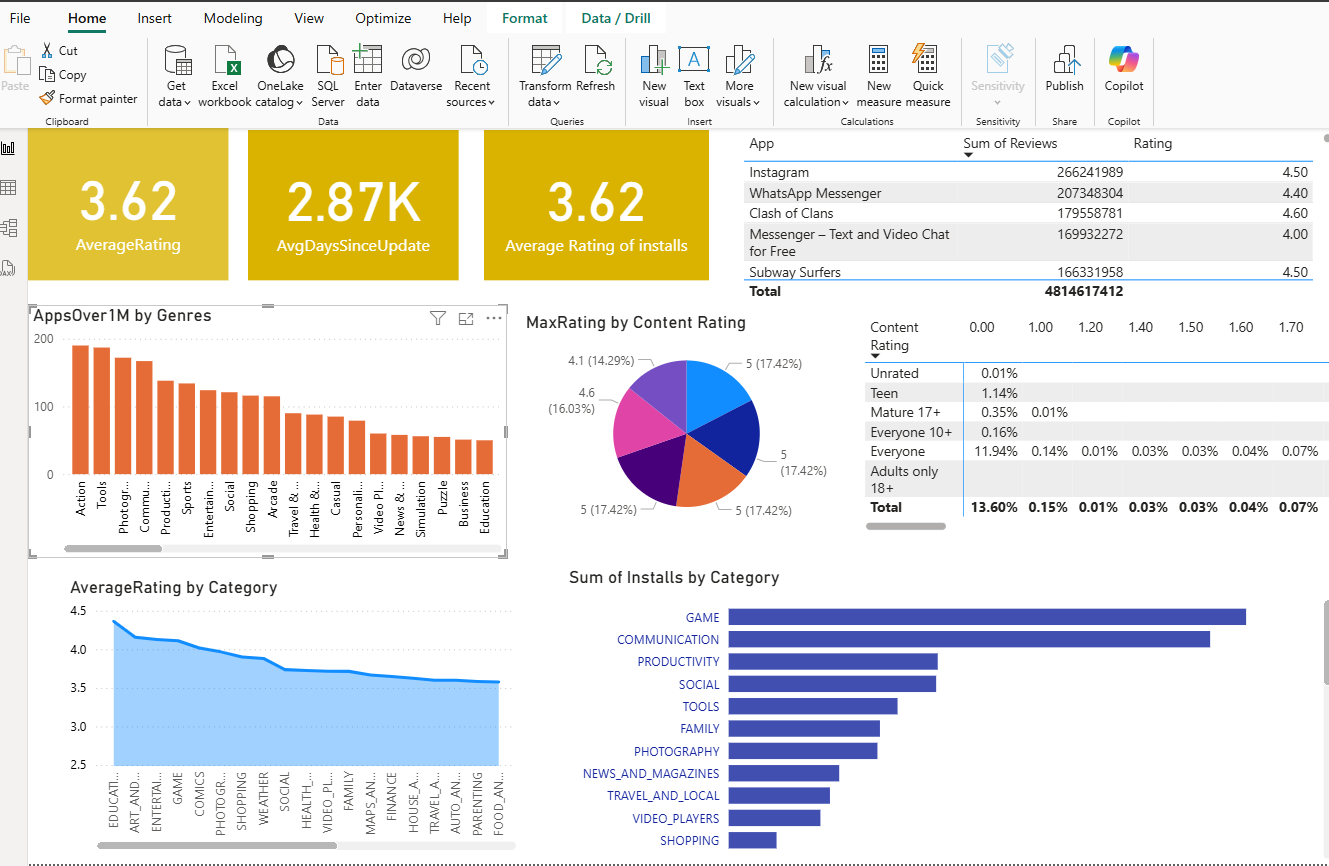

This screenshot's page, from the dashboard's own definition file:
{"tool":"powerbi","page":{"name":"intermediate level","canvas":[1280,720],"ordinal":1},"visuals":[{"type":"card","fields":{"Values":["Avg(googleplaystore.Rating)"]},"box":[445.5,1.9,219.8,146.9],"z":0},{"type":"columnChart","fields":{"Category":["googleplaystore.Category"],"Y":["googleplaystore.AverageRating"]},"box":[0,430.9,445.5,288.9],"z":1000},{"type":"card","fields":{"Values":["googleplaystore.AverageRating"]},"box":[0,0,196.5,148.8],"z":2000},{"type":"columnChart","fields":{"Category":["googleplaystore.Content Rating"],"Y":["googleplaystore.MaxRating"]},"box":[906.5,191.6,373.5,248],"z":3000},{"type":"columnChart","fields":{"Category":["googleplaystore.Genres"],"Y":["googleplaystore.AppsOver1M"]},"box":[0,173.1,482.4,247.1],"z":4000},{"type":"card","fields":{"Values":["googleplaystore.AvgDaysSinceUpdate"]},"box":[215,1.9,206.2,146.9],"z":5000},{"type":"tableEx","fields":{"Values":["googleplaystore.App","Sum(googleplaystore.Reviews)","googleplaystore.Rating"]},"box":[482.4,191.6,411.4,228.6],"z":6000},{"type":"pivotTable","fields":{"Rows":["googleplaystore.Content Rating"],"Columns":["googleplaystore.Rating"],"Values":["Min(googleplaystore.App)"]},"box":[681.8,1.9,598.2,178],"z":7000},{"type":"barChart","fields":{"Category":["googleplaystore.Category"],"Y":["Sum(googleplaystore.Installs)"]},"box":[524.3,447.4,755.7,272.3],"z":8000}]}

Visuals, with their boxes on the page's 1280x720 design canvas (x1, y1, x2, y2). These are canvas units, not pixel positions in the 1329x866 screenshot, which may show the page scaled, cropped or inside an application window:
card - Avg(googleplaystore.Rating): l=446, t=2, r=665, b=149
columnChart - googleplaystore.Category x googleplaystore.AverageRating: l=0, t=431, r=446, b=720
card - googleplaystore.AverageRating: l=0, t=0, r=196, b=149
columnChart - googleplaystore.Content Rating x googleplaystore.MaxRating: l=906, t=192, r=1280, b=440
columnChart - googleplaystore.Genres x googleplaystore.AppsOver1M: l=0, t=173, r=482, b=420
card - googleplaystore.AvgDaysSinceUpdate: l=215, t=2, r=421, b=149
tableEx - googleplaystore.App x Sum(googleplaystore.Reviews): l=482, t=192, r=894, b=420
pivotTable - googleplaystore.Content Rating x googleplaystore.Rating: l=682, t=2, r=1280, b=180
barChart - googleplaystore.Category x Sum(googleplaystore.Installs): l=524, t=447, r=1280, b=720
